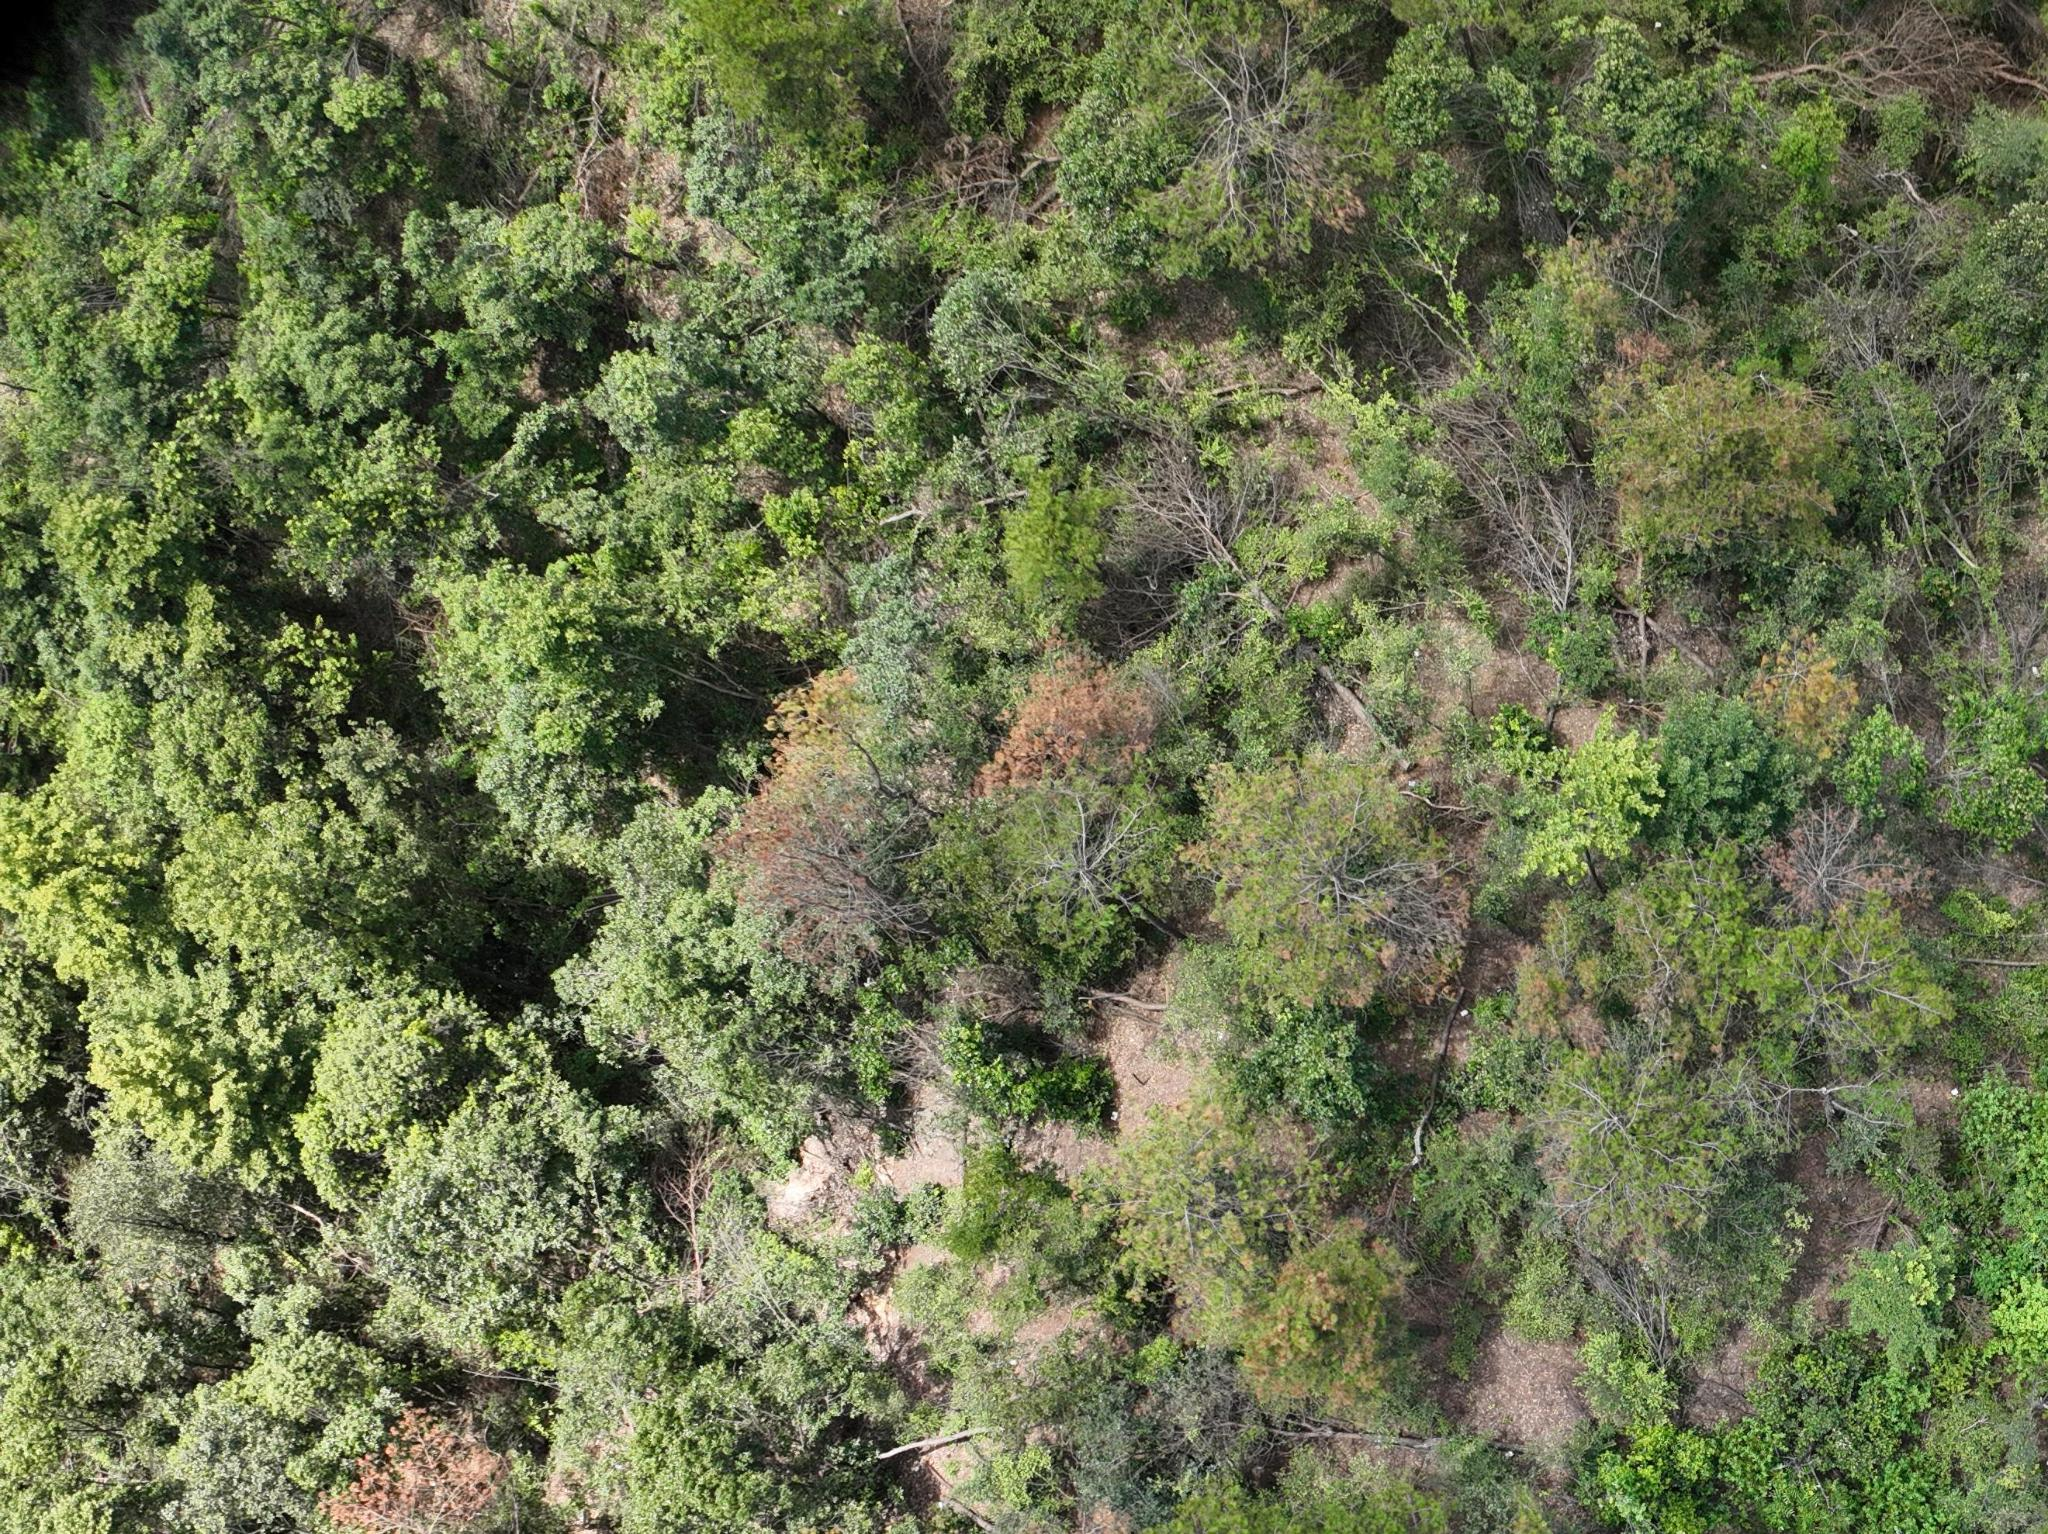dead: (1429, 413, 1615, 616), (1188, 52, 1342, 227), (741, 815, 918, 965), (1289, 820, 1455, 960), (1110, 453, 1246, 582)
heavy: (986, 653, 1147, 802), (319, 1418, 514, 1534)
light: (1228, 1244, 1403, 1416)
